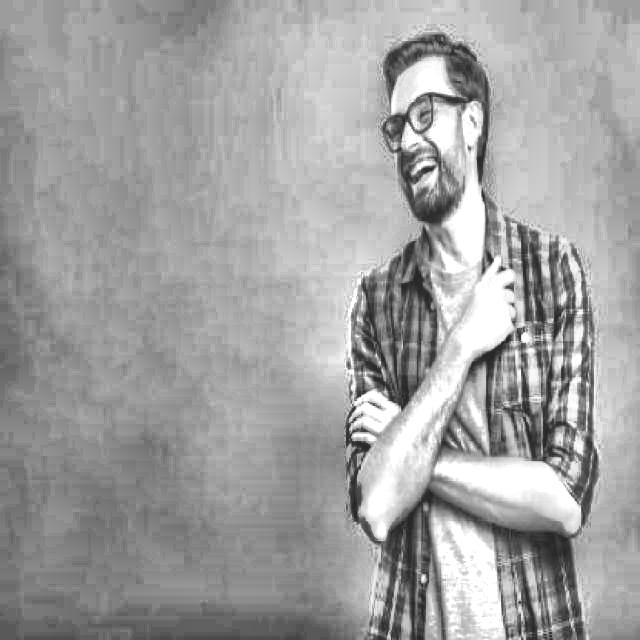happy: (390, 89, 442, 192)
